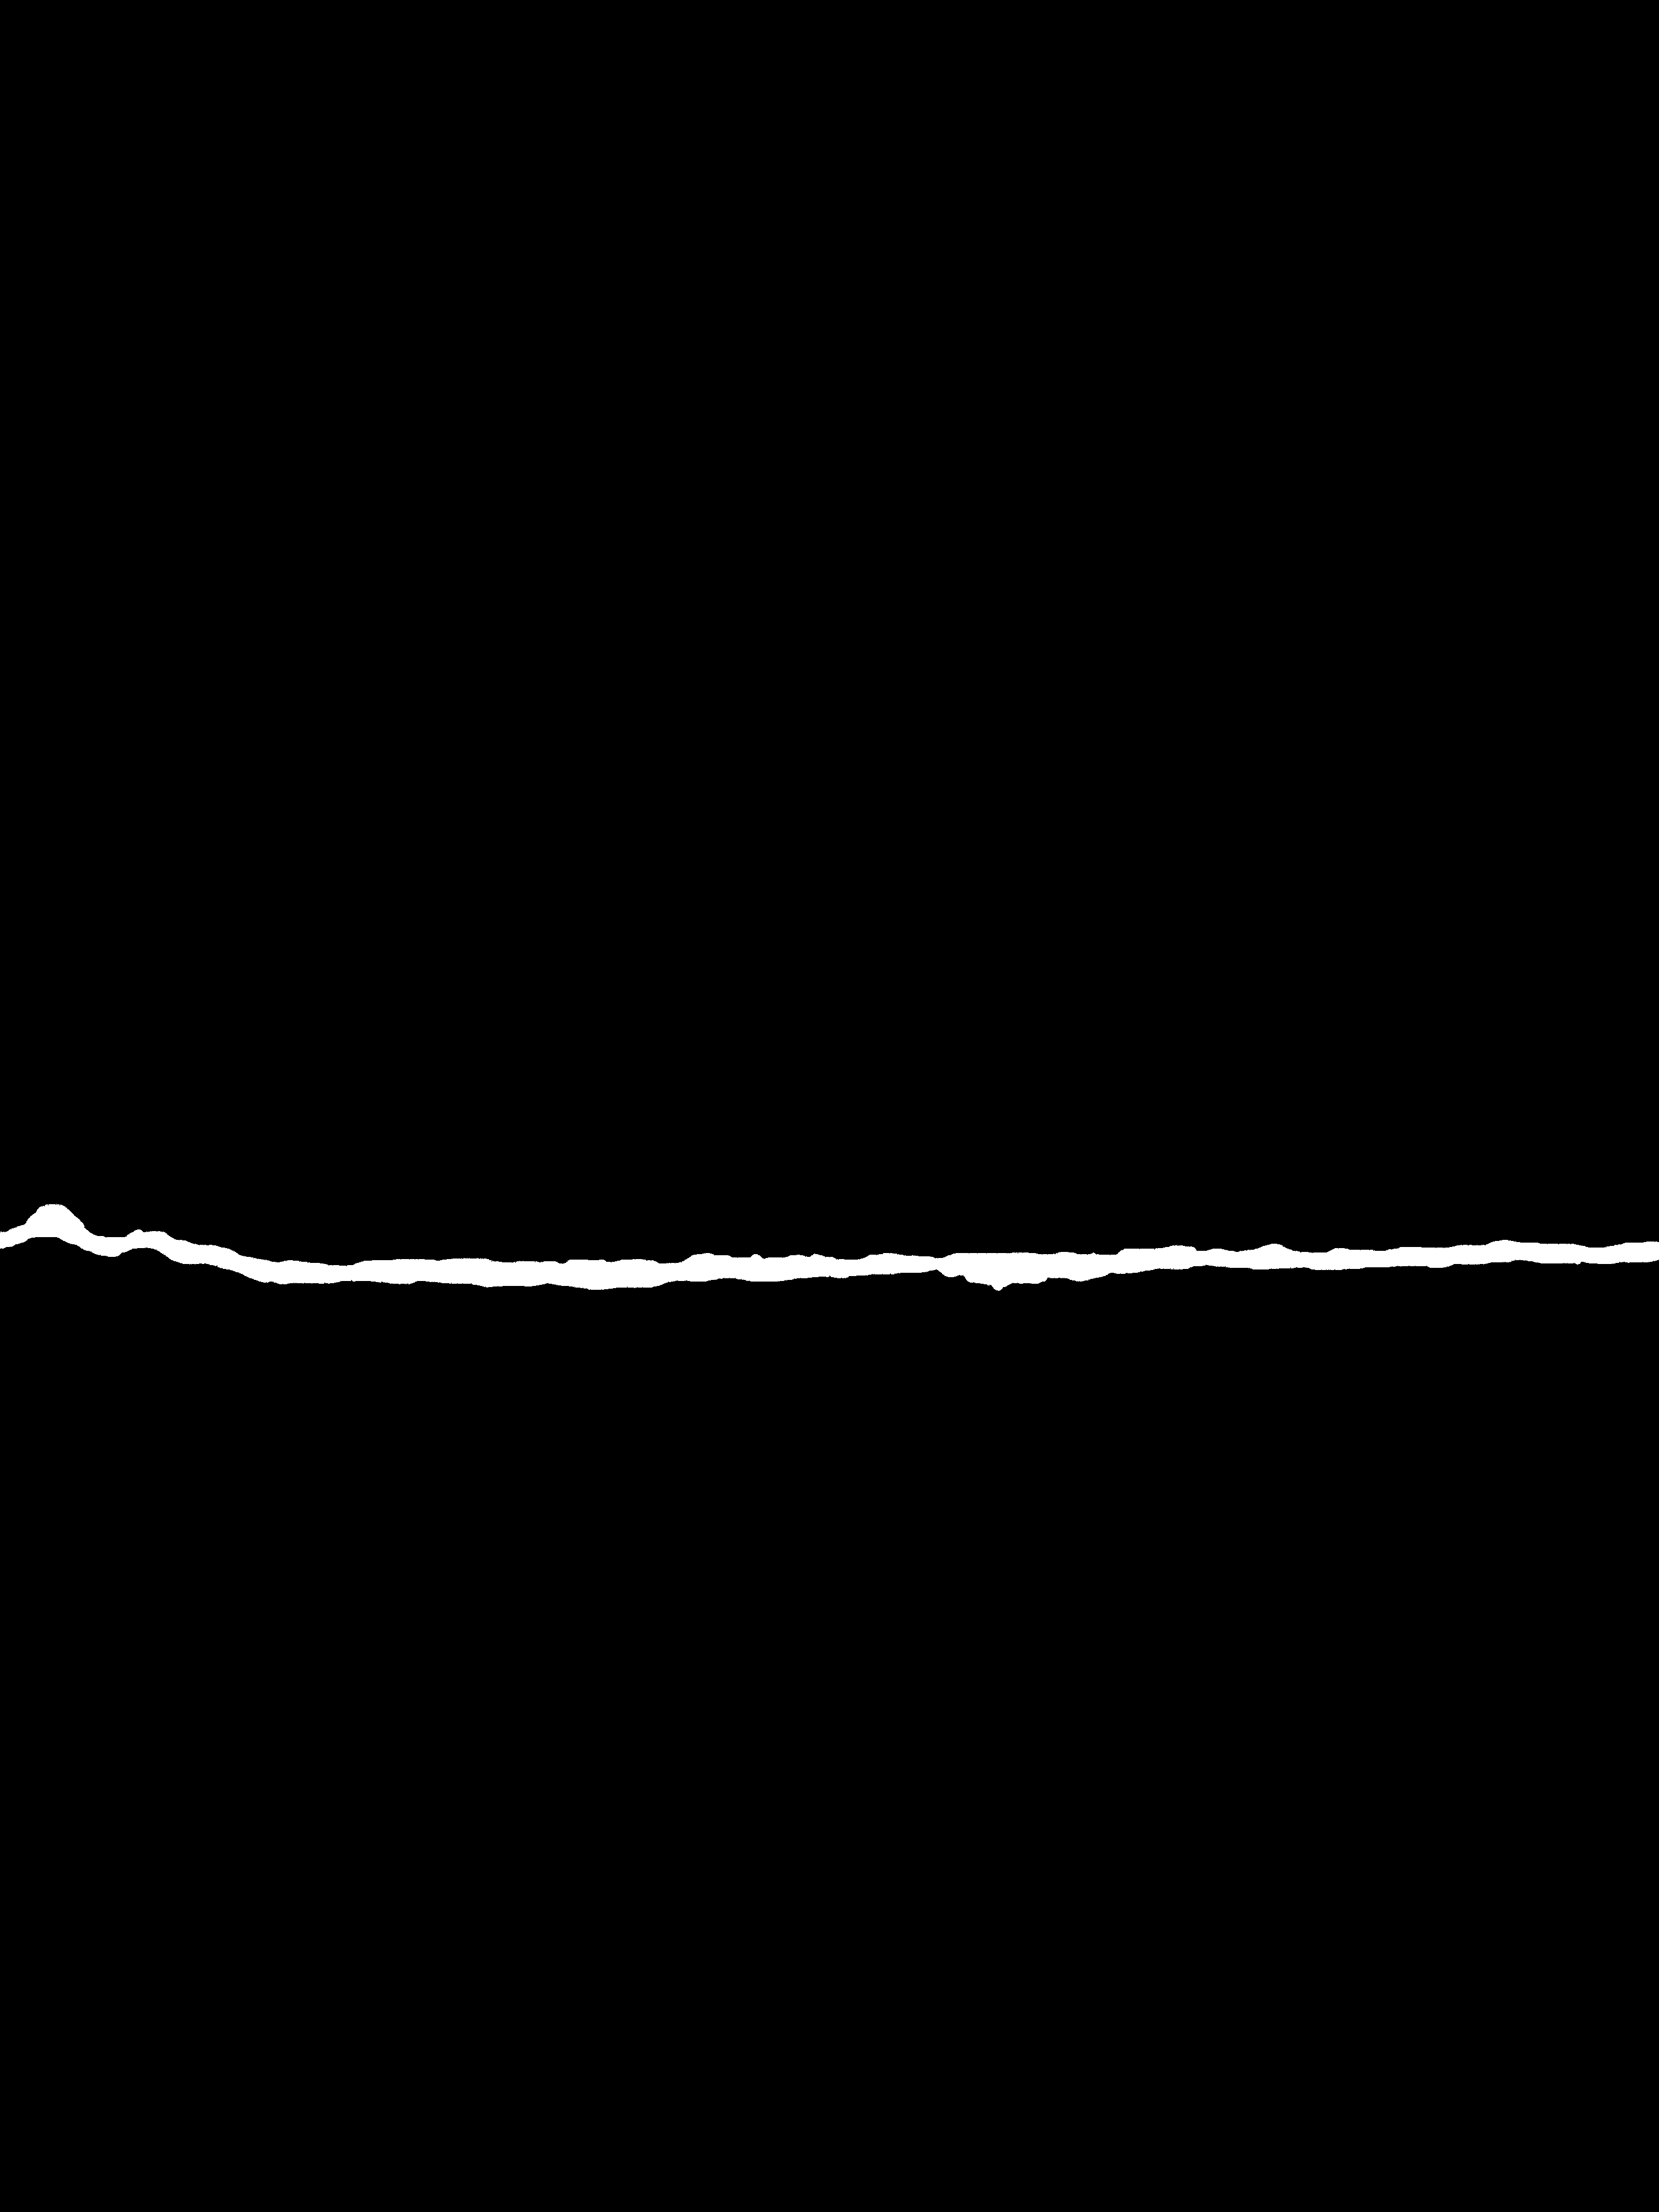Crack: (0, 1181, 1659, 1308)
